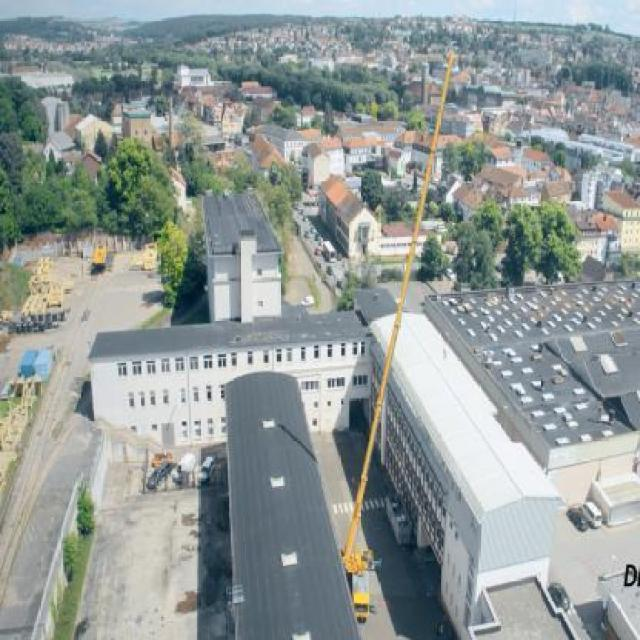Mobile Crane: (335, 49, 457, 618)
